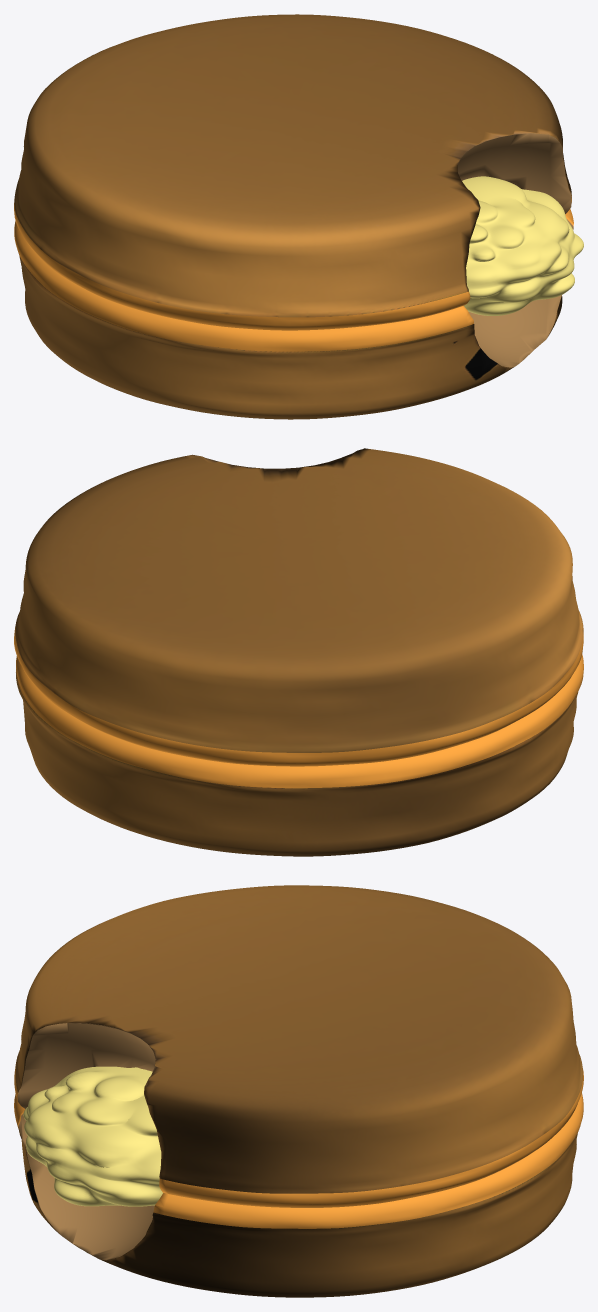
Rendered from lololo.glb.
The picture shows the model from 3 angles, top to bottom: view 1: azimuth 30°, elevation 25°; view 2: azimuth 150°, elevation 25°; view 3: azimuth 270°, elevation 25°; orthographic projection.
Visible parts, largest first — view 1: Cylinder, Mball.002; view 2: Cylinder; view 3: Cylinder, Mball.002.
Part boxes in pixels (box(x1,y1,x2,y2)): Cylinder: box(14, 14, 573, 419); Mball.002: box(462, 176, 583, 315); Cylinder: box(14, 448, 583, 856); Cylinder: box(14, 885, 583, 1297); Mball.002: box(23, 1066, 162, 1206).
Bounding box in the file's own units: 2.07 × 0.8121 × 2.08.
4 materials, 1 textured.
